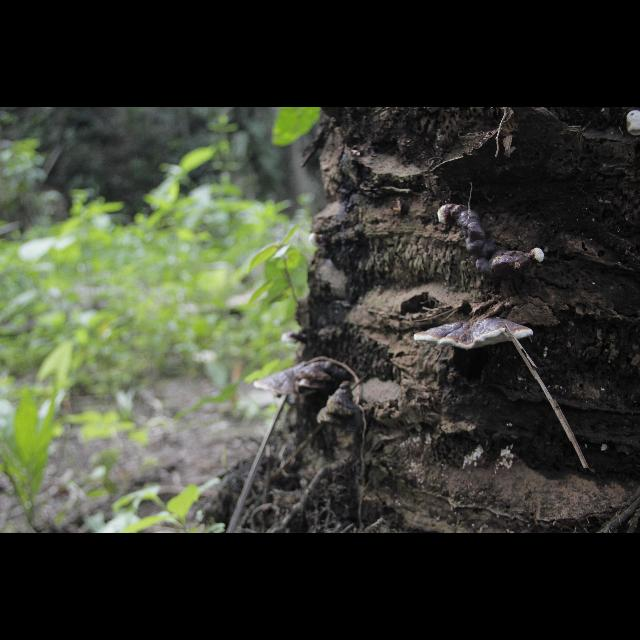ganoderma: (452, 203, 531, 282), (415, 316, 536, 352), (254, 363, 319, 398), (298, 362, 351, 392), (282, 331, 308, 347)
primordium: (627, 110, 640, 138), (438, 205, 453, 227), (310, 233, 328, 249), (532, 248, 547, 265)
